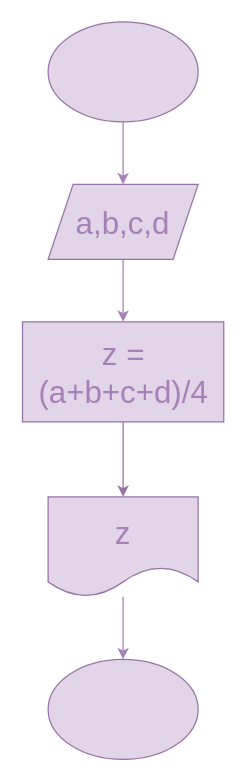
Image size: 245x781. Some labels were removed from this diagram. Each missing label, with the box of its shape:
Конец: (47, 658, 198, 759)
Начало: (47, 21, 198, 122)
